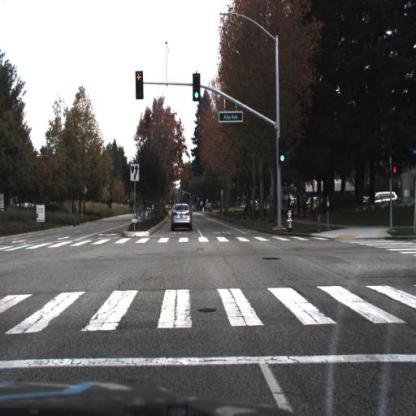car: (171, 201, 194, 233), (290, 198, 312, 219), (375, 192, 400, 206)
pedestrian: (315, 195, 323, 232), (295, 190, 302, 221), (303, 189, 309, 218)
trafficLight-Green: (278, 135, 288, 168), (193, 72, 203, 103)
trafficLight-RedLeft: (134, 70, 144, 104), (135, 70, 145, 101)
